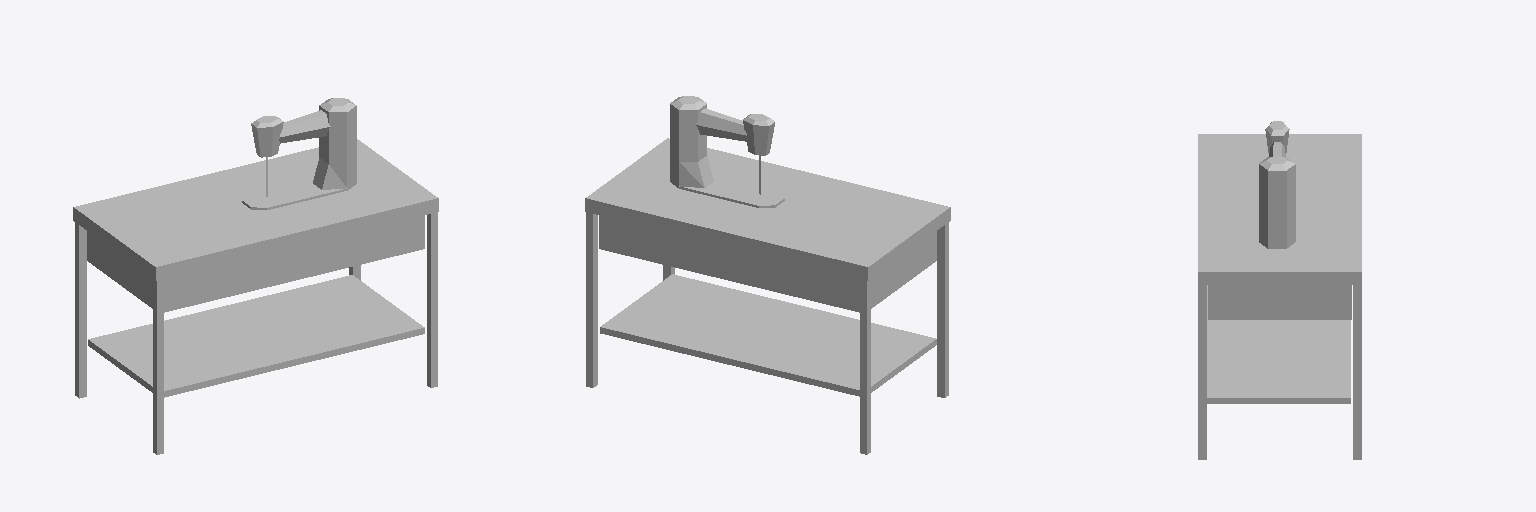
File: laundrySewingTable.obj
3 renders of one model, left to right at view 1: azimuth 30°, elevation 25°; view 2: azimuth 150°, elevation 25°; view 3: azimuth 270°, elevation 25°, orthographic.
Parts seen in each view (by area): view 1: Cube.004_Cube.005, Cylinder.002; view 2: Cube.004_Cube.005, Cylinder.002; view 3: Cube.004_Cube.005, Cylinder.002.
Part boxes in pixels (x1,y1,x2,y2): Cube.004_Cube.005: (73,139,438,454); Cylinder.002: (242,98,356,209); Cube.004_Cube.005: (585,138,950,454); Cylinder.002: (670,96,784,207); Cube.004_Cube.005: (1198,134,1361,459); Cylinder.002: (1259,121,1295,248).
Bounding box in the file's own units: 8.39 × 7.65 × 4.22.